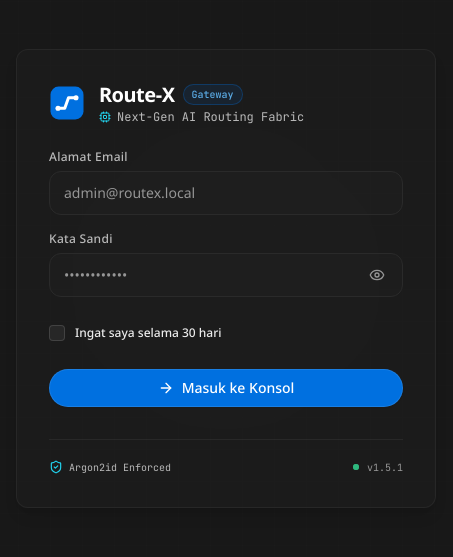
Test: Login Page — Futuristic AI Gateway Portal › menampilkan pesan error jika otentikasi gagal
Type "wrong@routex.io" into the field labelled "Alamat Email" at (226,192), box [49, 170, 403, 214]
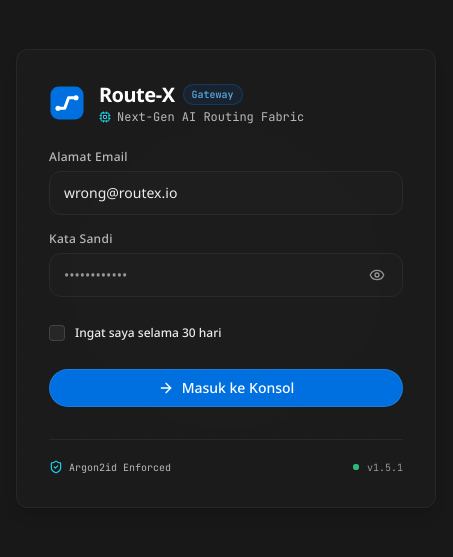
Type "wrongpass" into the password field with placeholder "••••••••••••" at (226,274), box [49, 252, 403, 296]
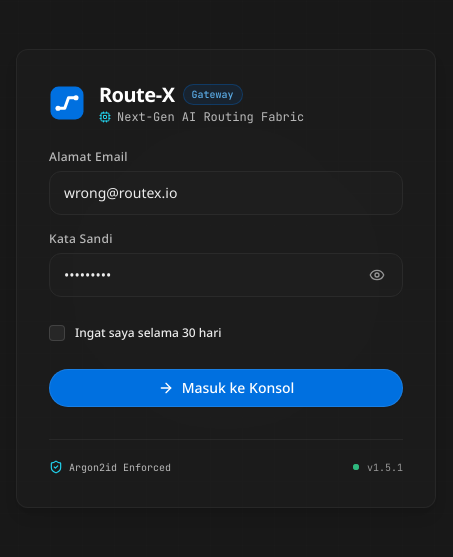
Click the button "Masuk ke Konsol" at (226,388), box [49, 368, 403, 406]
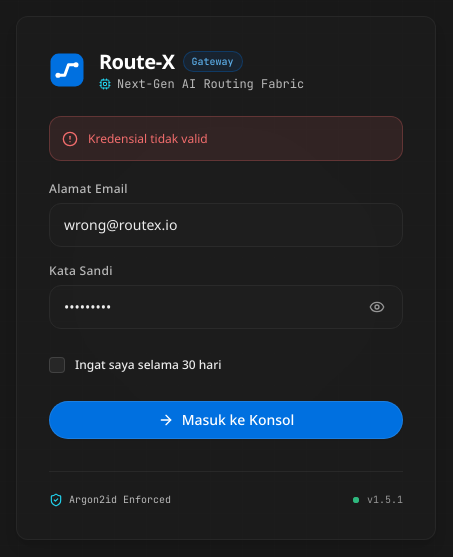
Check: the message reads "Kredensial tidak valid", box [88, 130, 208, 147]
